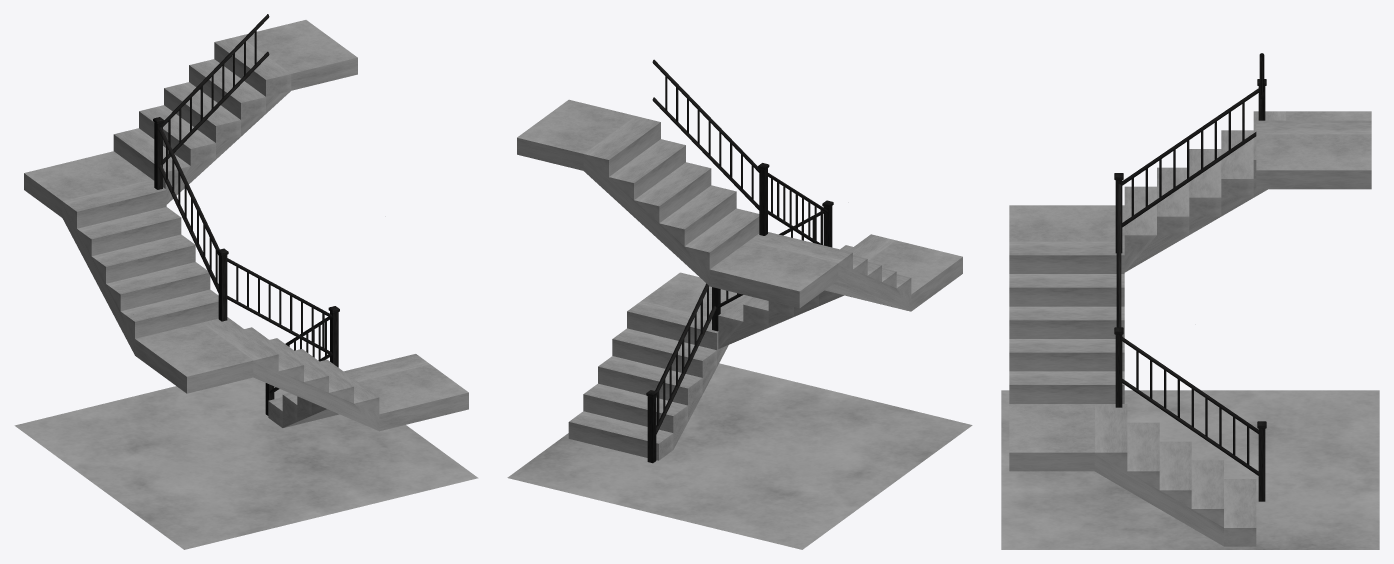
Rendered from Staircase_texture_bottom_textured_2.fbx.
3 renders of one model, left to right at view 1: azimuth 30°, elevation 25°; view 2: azimuth 150°, elevation 25°; view 3: azimuth 270°, elevation 25°, orthographic. The views are drawn at different scales.
Visible parts, largest first — view 1: Plane, stairs.002, stairs.003, stairs.001, stairs, raling.003, raling.002, raling.001, post.002; view 2: Plane, stairs.003, stairs, stairs.002, stairs.001, raling.003, raling, raling.002, post, post.003; view 3: Plane, stairs.001, stairs, stairs.002, stairs.003, raling, raling.002, raling.001, post, post.001.
Boxes of the visible parts, left/top/right/bottom form: Plane: left=14, top=377, right=478, bottom=549; stairs.002: left=24, top=151, right=218, bottom=355; stairs.003: left=113, top=20, right=357, bottom=204; stairs.001: left=135, top=317, right=379, bottom=430; stairs: left=268, top=354, right=468, bottom=431; raling.003: left=163, top=14, right=269, bottom=164; raling.002: left=158, top=127, right=219, bottom=292; raling.001: left=227, top=258, right=332, bottom=355; post.002: left=218, top=254, right=227, bottom=321; Plane: left=507, top=363, right=972, bottom=549; stairs.003: left=517, top=99, right=759, bottom=285; stairs: left=568, top=272, right=745, bottom=460; stairs.002: left=709, top=232, right=911, bottom=311; stairs.001: left=718, top=234, right=962, bottom=348; raling.003: left=652, top=59, right=759, bottom=210; raling: left=655, top=283, right=716, bottom=434; raling.002: left=768, top=173, right=828, bottom=244; post: left=647, top=395, right=656, bottom=463; post.003: left=759, top=168, right=767, bottom=235; Plane: left=1001, top=390, right=1379, bottom=549; stairs.001: left=1009, top=205, right=1124, bottom=403; stairs: left=1009, top=404, right=1256, bottom=546; stairs.002: left=1124, top=111, right=1371, bottom=272; stairs.003: left=1256, top=120, right=1371, bottom=189; raling: left=1122, top=337, right=1258, bottom=475; raling.002: left=1122, top=88, right=1258, bottom=227; raling.001: left=1116, top=184, right=1121, bottom=327; post: left=1258, top=428, right=1265, bottom=501; post.001: left=1115, top=334, right=1122, bottom=407.
Size of the model in its own units: 328 by 427 by 328.
Materials: 4 (4 with a texture image).
